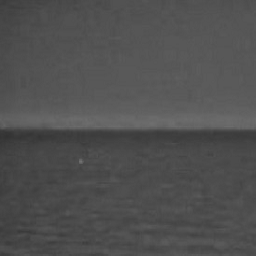Target: (75, 157, 83, 165)
